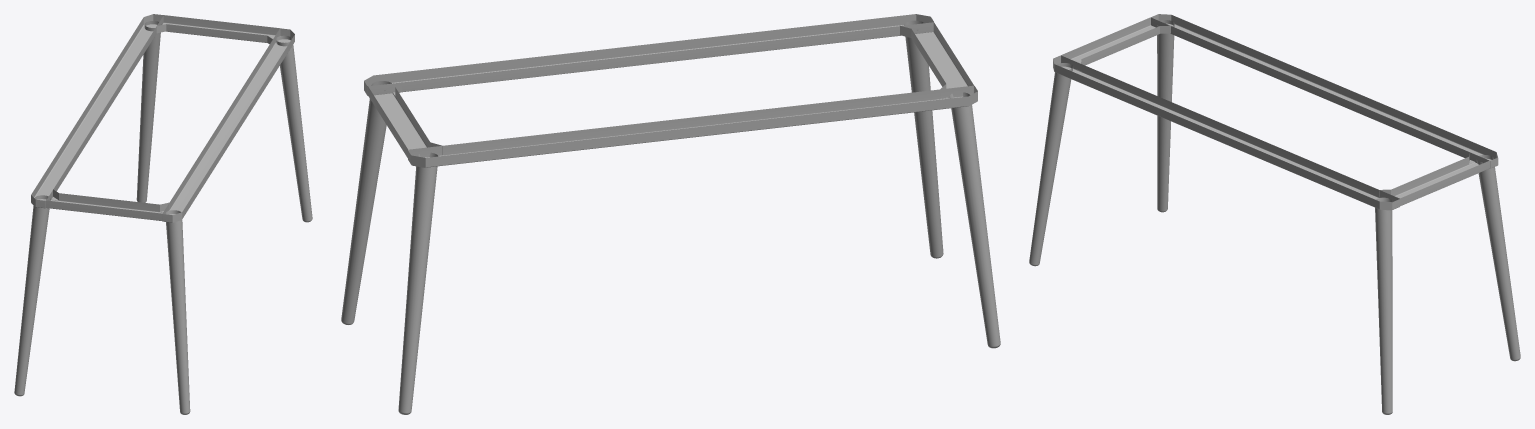
File: diningtable_0104_leg.glb
3 renders of one model, left to right at view 1: azimuth 30°, elevation 25°; view 2: azimuth 150°, elevation 25°; view 3: azimuth 270°, elevation 25°, orthographic. The views are drawn at different scales.
Parts seen in each view (by area): view 1: diningtable_0104_leg; view 2: diningtable_0104_leg; view 3: diningtable_0104_leg.
Part boxes in pixels (box(x1,y1,x2,y2)): diningtable_0104_leg: box(14, 14, 312, 414); diningtable_0104_leg: box(341, 14, 1000, 414); diningtable_0104_leg: box(1029, 14, 1520, 414).
Bounding box in the file's own units: 1.57 × 0.7197 × 1.57.
1 material, 1 textured.
